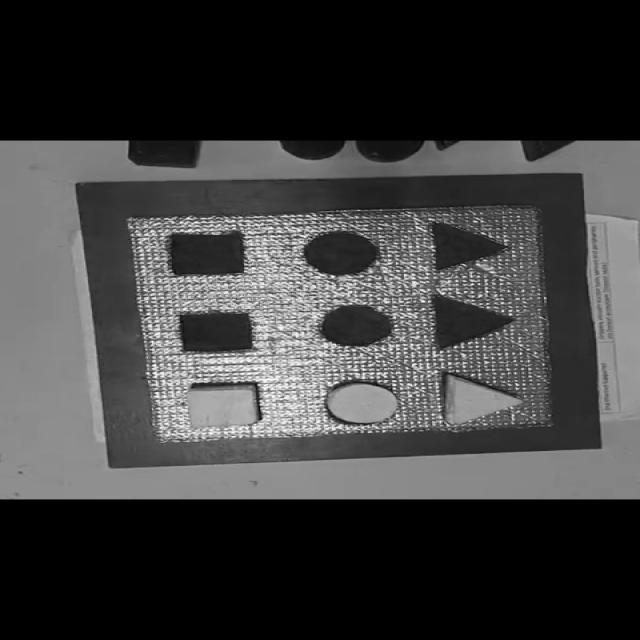bcircle: (280, 140, 347, 160)
btriangle: (127, 140, 202, 169), (435, 140, 459, 151)
mtcircle: (302, 230, 381, 276), (318, 304, 396, 347)
mtcube: (166, 231, 249, 276), (178, 311, 256, 352)
mttriangle: (430, 293, 515, 349), (430, 222, 508, 270)
rcircle: (356, 140, 425, 162)
rtriangle: (521, 141, 558, 161)
wb: (126, 204, 553, 441)
ycircle: (323, 381, 400, 425)
ycube: (185, 382, 264, 428)
ytriangle: (441, 371, 525, 425)
